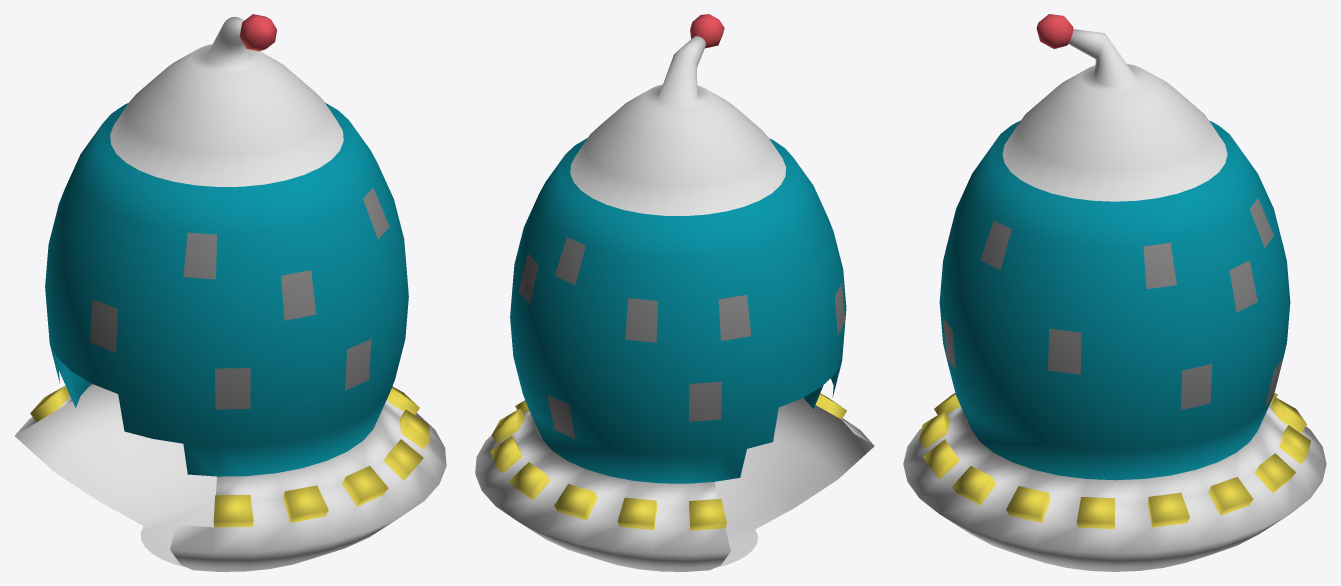
File: SpaceShipNew01.fbx
The picture shows the model from 3 angles, left to right: view 1: azimuth 30°, elevation 25°; view 2: azimuth 150°, elevation 25°; view 3: azimuth 270°, elevation 25°; orthographic projection. The views are drawn at different scales.
Visible parts, largest first — view 1: Sphere.001; view 2: Sphere.001; view 3: Sphere.001.
Part boxes in pixels (bbox=[...]): Sphere.001: bbox=[14, 14, 446, 571]; Sphere.001: bbox=[475, 14, 874, 571]; Sphere.001: bbox=[903, 14, 1326, 571].
Bounding box in the file's own units: 221 × 241 × 328.
